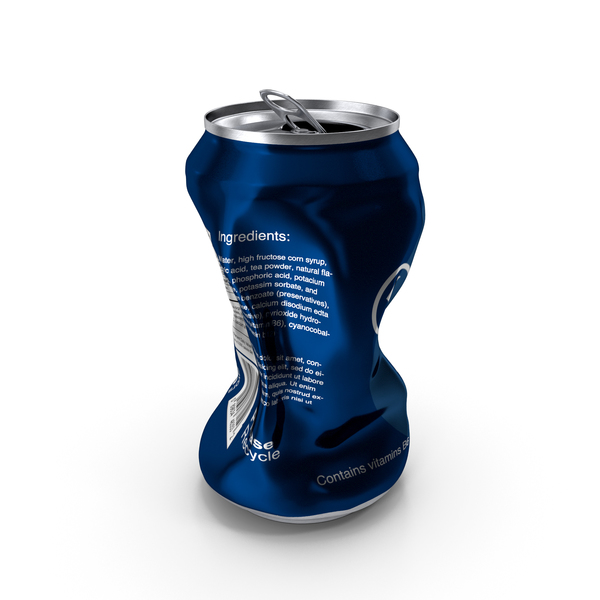can: (181, 88, 428, 529)
